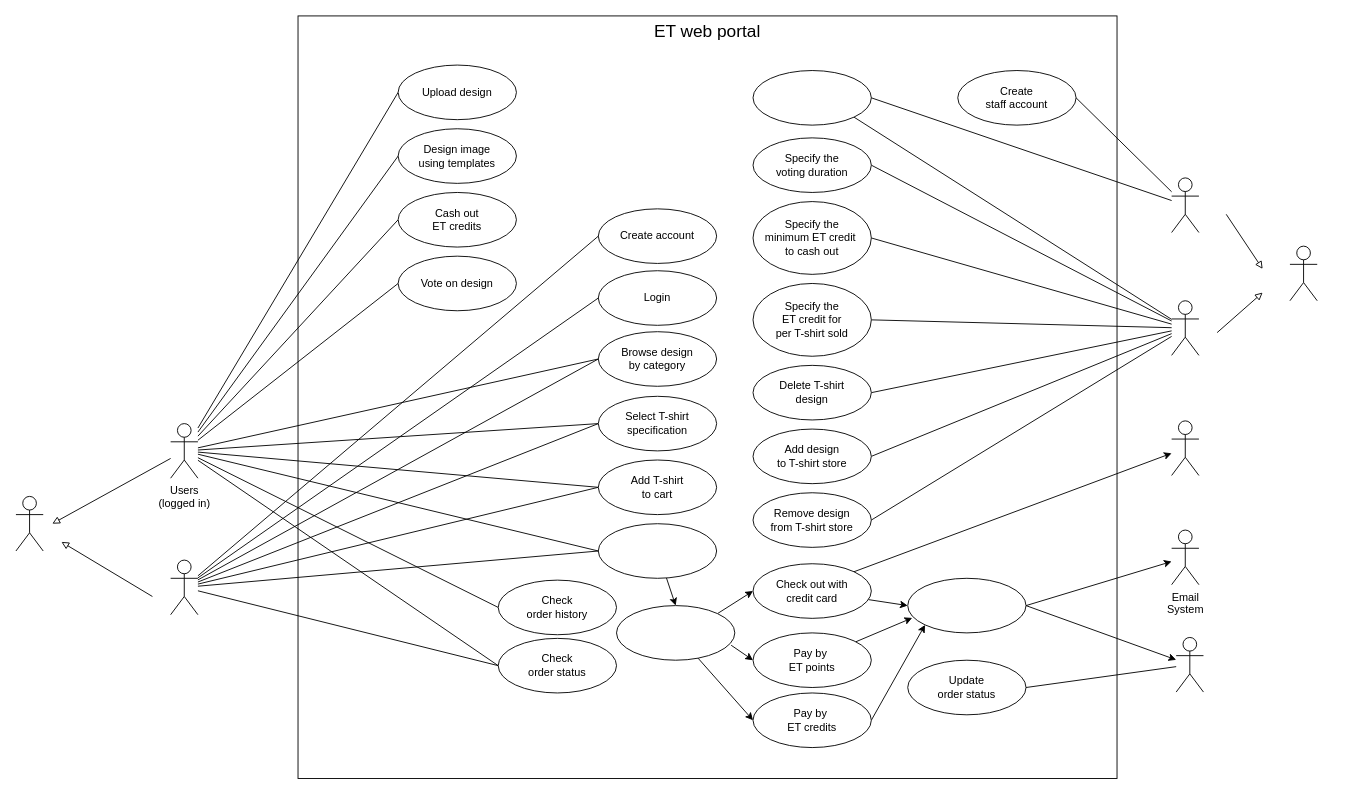
The diagram is 1351 pixels wide and 802 high, and some of its shapes have lost their labels. The centre of each missing label's shape, as x and y in pixels:
"Calculate shipping fee" goes at pixel 675 632.
"Check out cart" goes at pixel 657 550.
"Credit card System" goes at pixel 1185 447.
"ET employee" goes at pixel 1303 273.
"ET staff" goes at pixel 1185 327.
"ET supervisor" goes at pixel 1185 205.
"Generate Order" goes at pixel 966 605.
"Login as employee" goes at pixel 811 97.
"Plant system" goes at pixel 1189 664.
"Users" goes at pixel 29 523.
"Users (not logged in)" goes at pixel 184 587.
